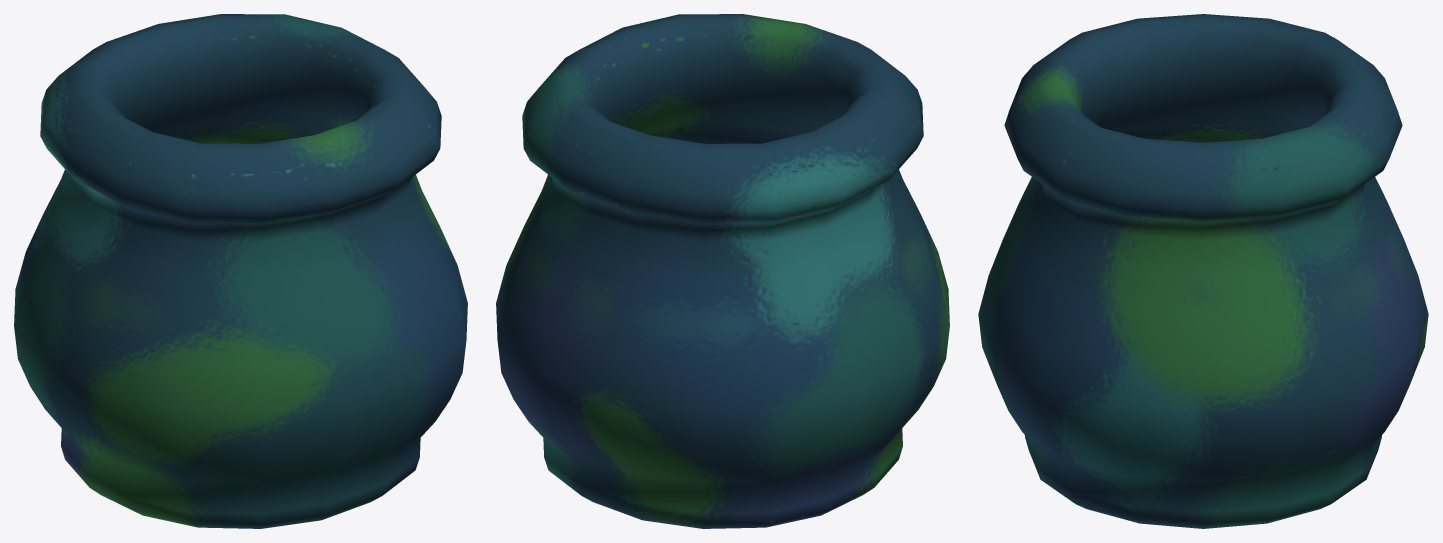
Rendered from vase.fbx.
3 views of the same model, side by side, from view 1: azimuth 30°, elevation 25°; view 2: azimuth 150°, elevation 25°; view 3: azimuth 270°, elevation 25° (orthographic).
Visible parts, largest first — view 1: pCube1; view 2: pCube1; view 3: pCube1.
Boxes of the visible parts, x1,y1,x2,y2 form: pCube1: [14, 14, 467, 528]; pCube1: [496, 14, 949, 528]; pCube1: [978, 14, 1428, 528].
Bounding box in the file's own units: 34.94 × 34.94 × 33.69.
1 material, 1 textured.
